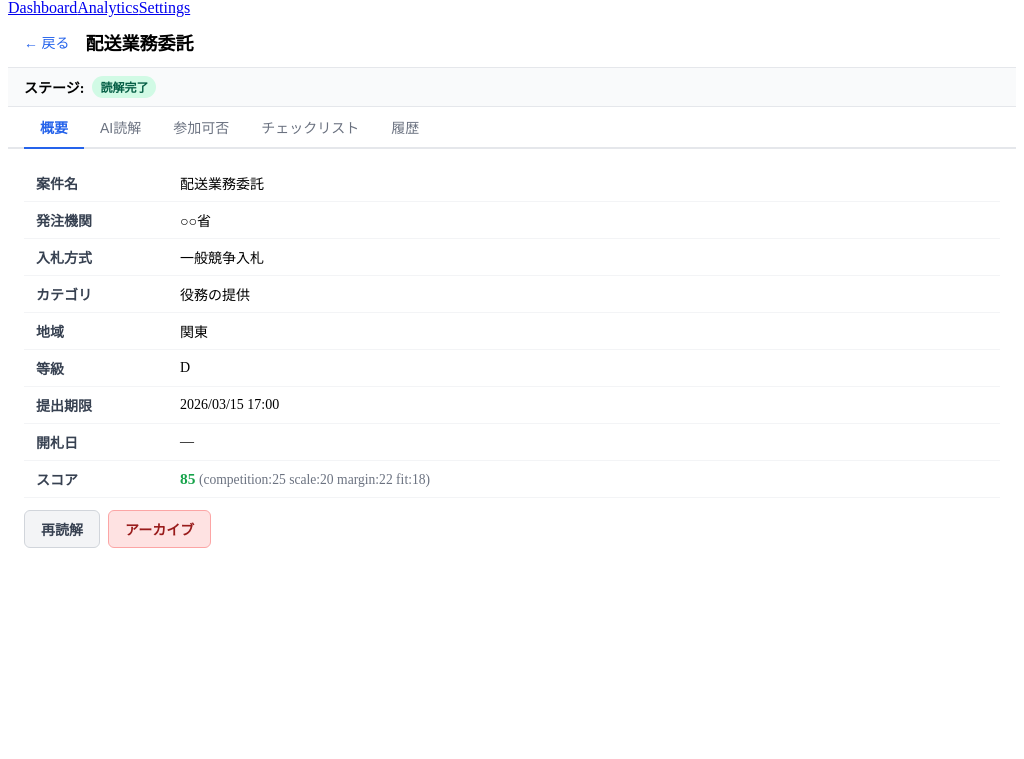
Test case: ReadingTab — SubmissionItemsSection › renders submission items section
Click the button with test id "tab-reading" at (121, 128), box [84,107,157,149]
(page scrolled)
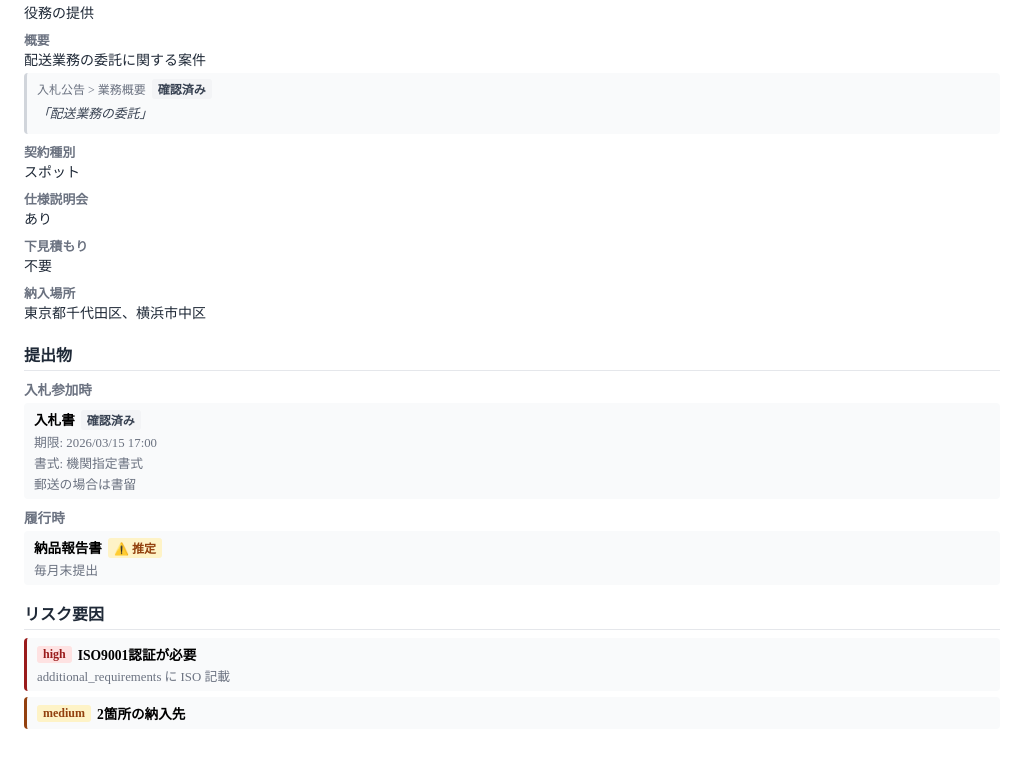
expect the element with test id "section-submission_items" is shown: met, box [24,342,1000,585]
expect the text "入札書" is shown: met, box [34,413,75,428]
expect the text "納品報告書" is shown: met, box [34,541,102,556]
